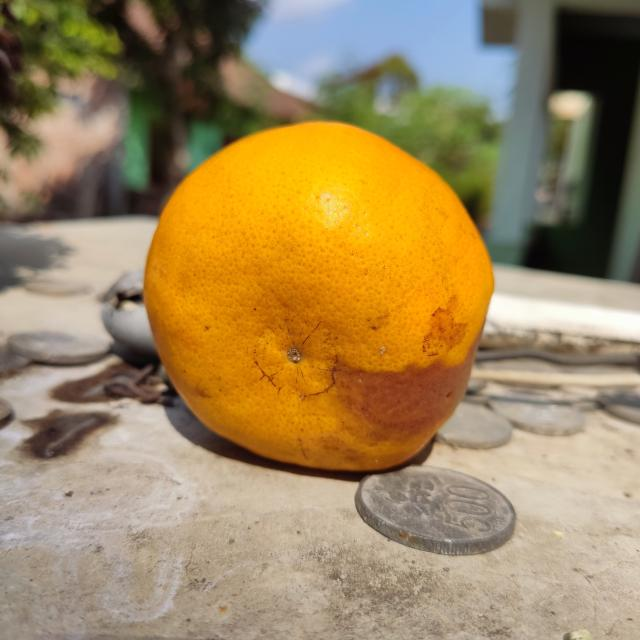orange: (141, 118, 495, 474)
